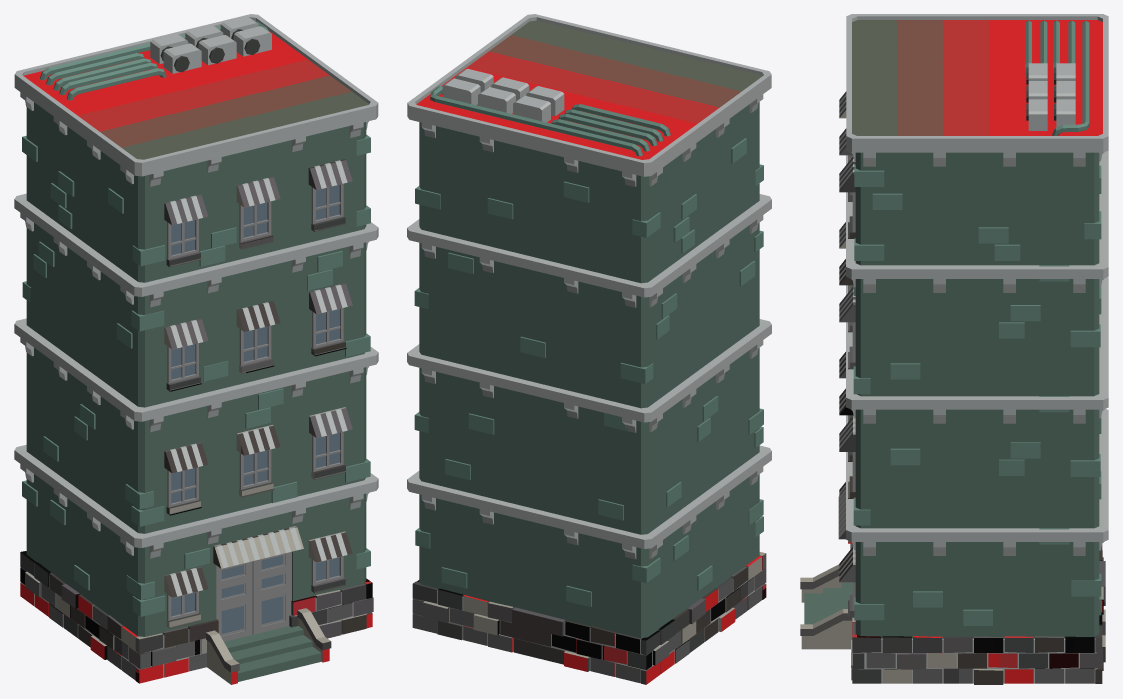
Rendered from quaternius-ultimate-textured-building-4-story-mat.glb.
The picture shows the model from 3 angles, left to right: view 1: azimuth 30°, elevation 25°; view 2: azimuth 150°, elevation 25°; view 3: azimuth 270°, elevation 25°; orthographic projection. The views are drawn at different scales.
Parts seen in each view (by area): view 1: 4Story_Mat; view 2: 4Story_Mat; view 3: 4Story_Mat.
Boxes of the visible parts, box(x1,y1,x2,y2) form: 4Story_Mat: box(14, 14, 378, 684); 4Story_Mat: box(407, 14, 771, 684); 4Story_Mat: box(800, 14, 1108, 684).
Bounding box in the file's own units: 2.42 × 5.09 × 2.53.
2 materials, 2 textured.
